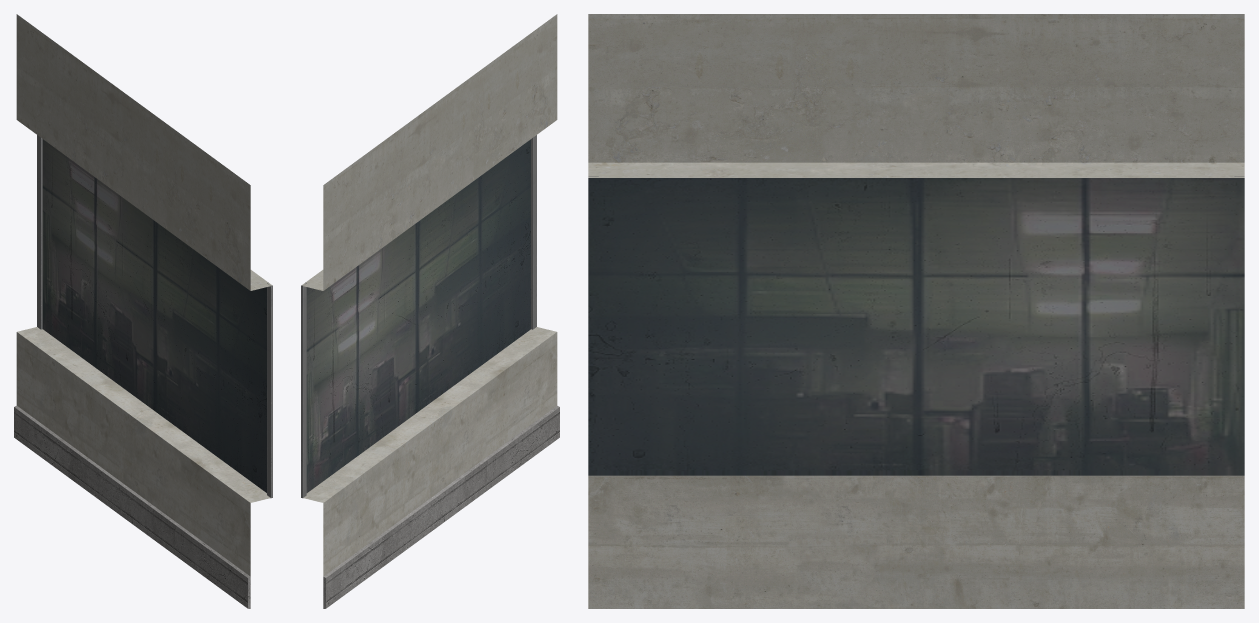
The model's file is HH_Hospital_Windows_4m_04.fbx.
The picture shows the model from 3 angles, left to right: view 1: azimuth 30°, elevation 25°; view 2: azimuth 150°, elevation 25°; view 3: azimuth 270°, elevation 25°; orthographic projection. The views are drawn at different scales.
Visible parts, largest first — view 1: HH_Hospital_Windows_4m_04; view 2: HH_Hospital_Windows_4m_04; view 3: HH_Hospital_Windows_4m_04.
Boxes of the visible parts, x1,y1,x2,y2 form: HH_Hospital_Windows_4m_04: (14, 14, 272, 608); HH_Hospital_Windows_4m_04: (301, 14, 559, 608); HH_Hospital_Windows_4m_04: (588, 14, 1244, 608).
Bounding box in the file's own units: 24.6 × 400 × 400.
